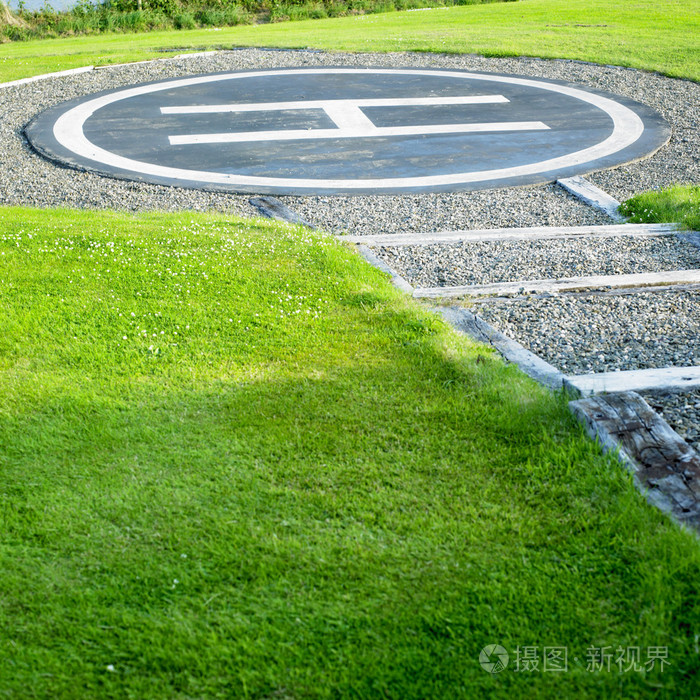Apron: (53, 66, 644, 187)
